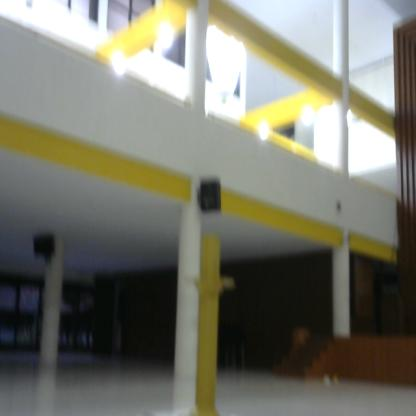pole: (184, 230, 239, 416)
